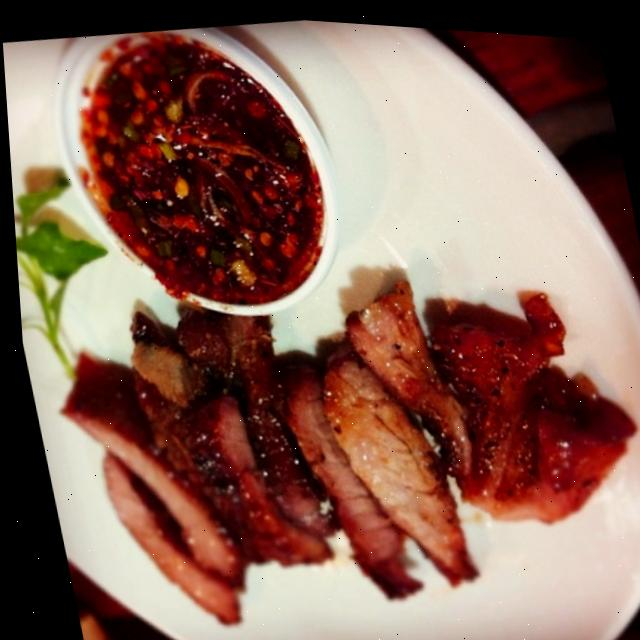猪肉菜式: (27, 221, 640, 640)
